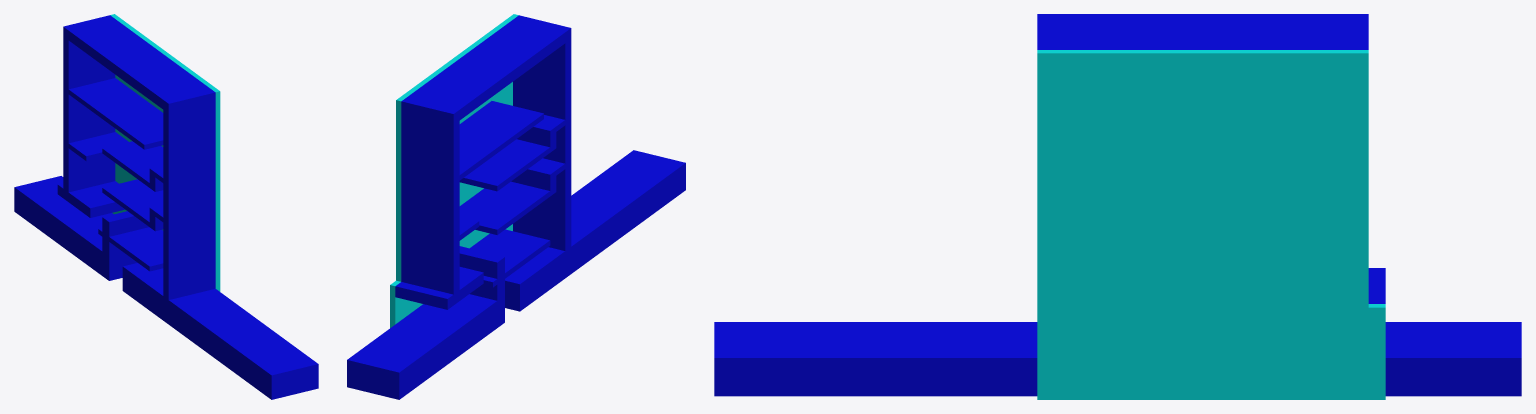
File: Level_3_scene5_colored.fbx
3 views of the same model, side by side, from view 1: azimuth 30°, elevation 25°; view 2: azimuth 150°, elevation 25°; view 3: azimuth 270°, elevation 25° (orthographic). The views are drawn at different scales.
Parts seen in each view (by area): view 1: Cube.029, area1.003, area1.004, Cube.034, Cube.031, Cube.002, Cube.035, Cube.032, Cube.030, Cube.033; view 2: Cube.029, area1.003, area1.004, Cube.032, Cube.002, Cube.034, Cube.031, Cube.035, Cube.030, Cube.033; view 3: Cube.002, area1.003, Cube.029, area1.004.
Boxes of the visible parts, bbox=[...] form: Cube.029: bbox=[57, 15, 215, 299]; area1.003: bbox=[122, 263, 318, 399]; area1.004: bbox=[14, 176, 137, 280]; Cube.034: bbox=[68, 78, 163, 149]; Cube.031: bbox=[98, 211, 163, 271]; Cube.002: bbox=[110, 14, 220, 291]; Cube.035: bbox=[102, 141, 163, 191]; Cube.032: bbox=[102, 179, 163, 231]; Cube.030: bbox=[68, 181, 124, 217]; Cube.033: bbox=[68, 132, 128, 160]; Cube.029: bbox=[395, 15, 571, 309]; area1.003: bbox=[505, 150, 685, 311]; area1.004: bbox=[347, 294, 504, 399]; Cube.032: bbox=[459, 158, 565, 234]; Cube.002: bbox=[390, 14, 518, 327]; Cube.034: bbox=[459, 101, 543, 180]; Cube.031: bbox=[459, 229, 550, 300]; Cube.035: bbox=[459, 115, 565, 191]; Cube.030: bbox=[459, 267, 483, 300]; Cube.033: bbox=[459, 216, 479, 240]; Cube.002: bbox=[1037, 50, 1385, 399]; area1.003: bbox=[714, 322, 1037, 396]; Cube.029: bbox=[1037, 14, 1385, 303]; area1.004: bbox=[1385, 322, 1521, 396].
Size of the model in its own units: 1100 by 4502 by 9500.
